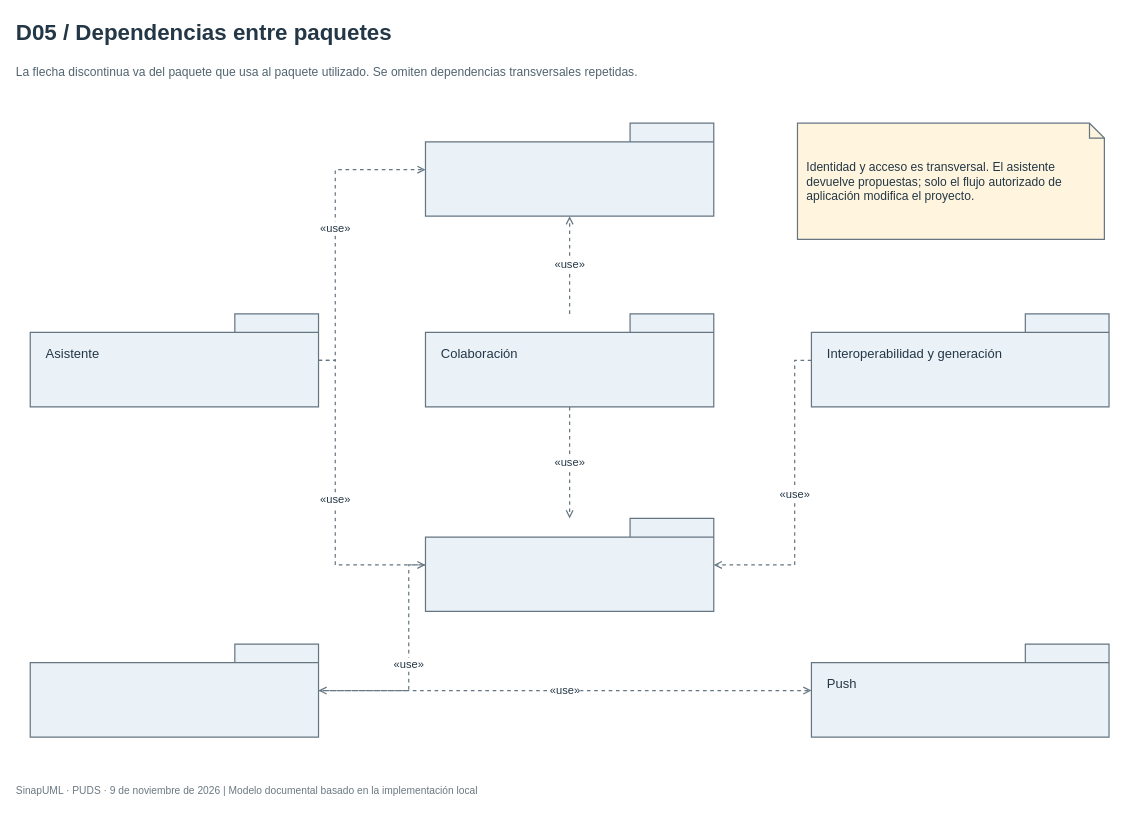
The diagram is 1138 pixels wide and 817 high, and some of its shapes have lost their labels. The centre of each missing label's shape, as x and y in pixels:
"Actividad y sesiones" belongs at (x=174, y=690).
"Identidad y acceso" belongs at (x=569, y=169).
"Proyecto y validación" belongs at (x=569, y=564).
